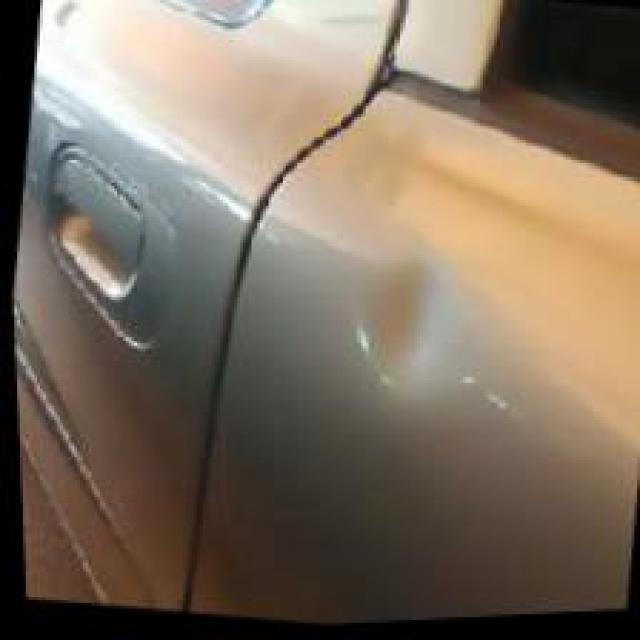Dent: (348, 255, 447, 386)
